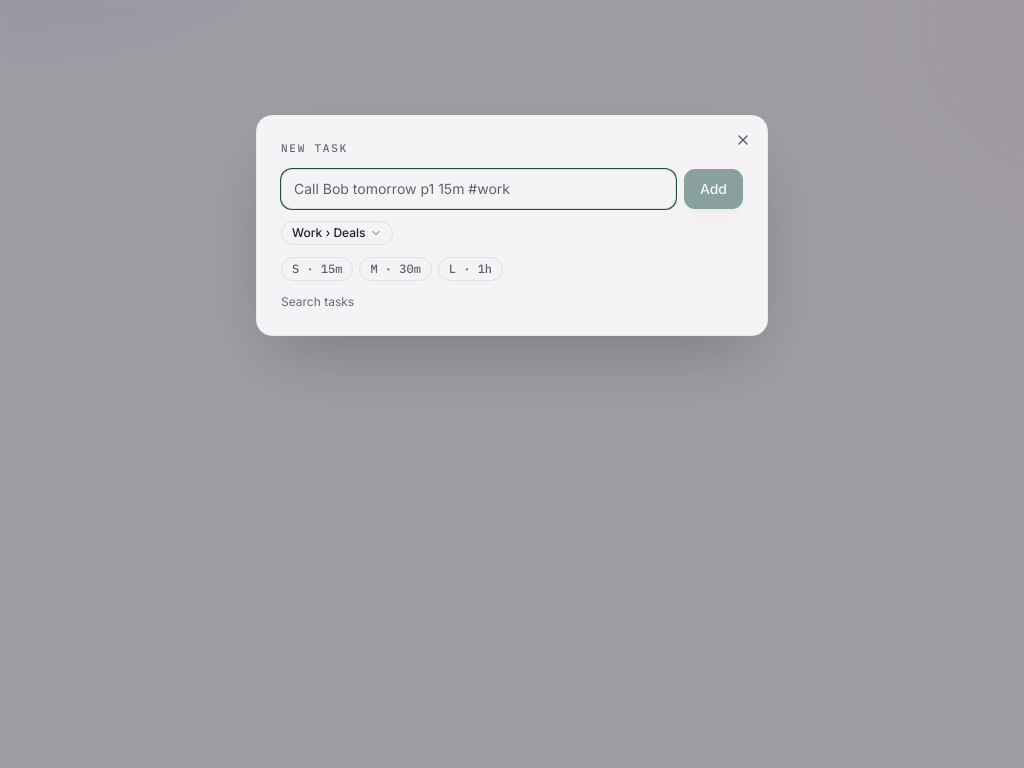
Test: QuickCapture (chunk 73) › (3) destination › a category tag narrows the stored list to that category
Type "Gym #personal" into the field named "Task" at (478, 189), box [281,169,676,209]
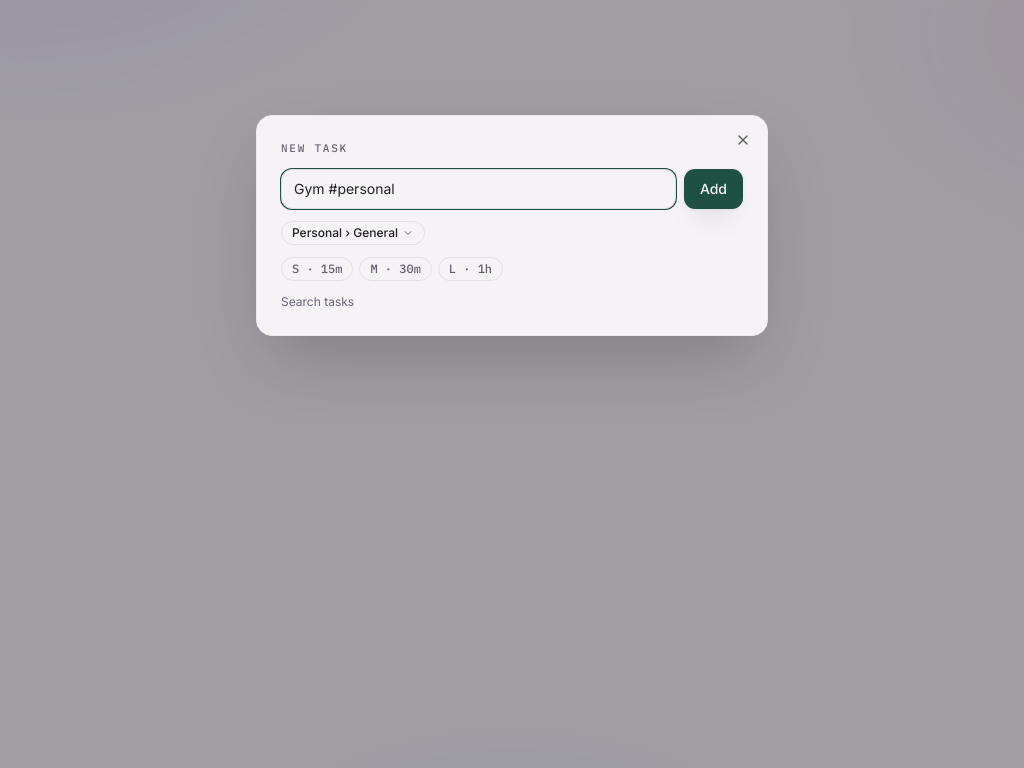
Expected: the button "Personal › General" is shown, [281,221,425,245]
Replace the text in the field named "Task" with "Gym #work" at (478, 189), box [281,169,676,209]
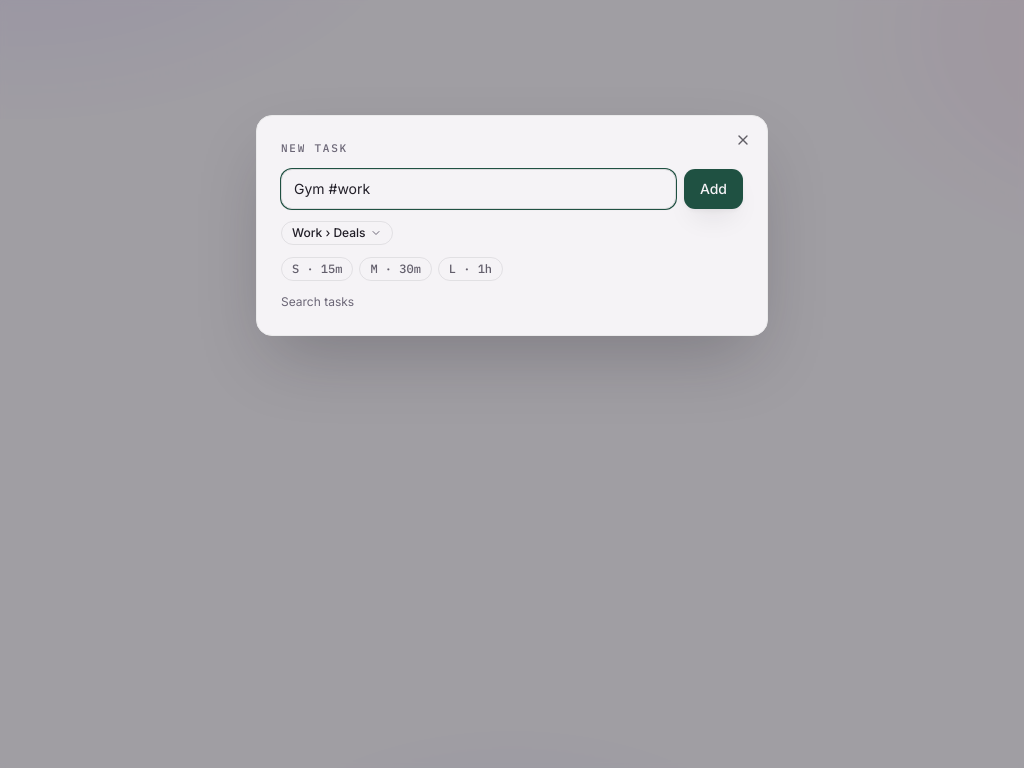
Expected: the button "Work › Deals" is shown, [281,221,392,245]
